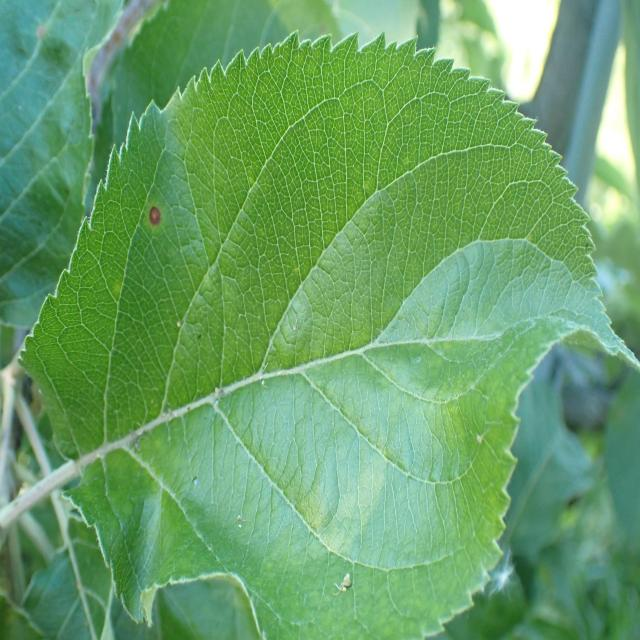Black Rot: (141, 197, 171, 239)
